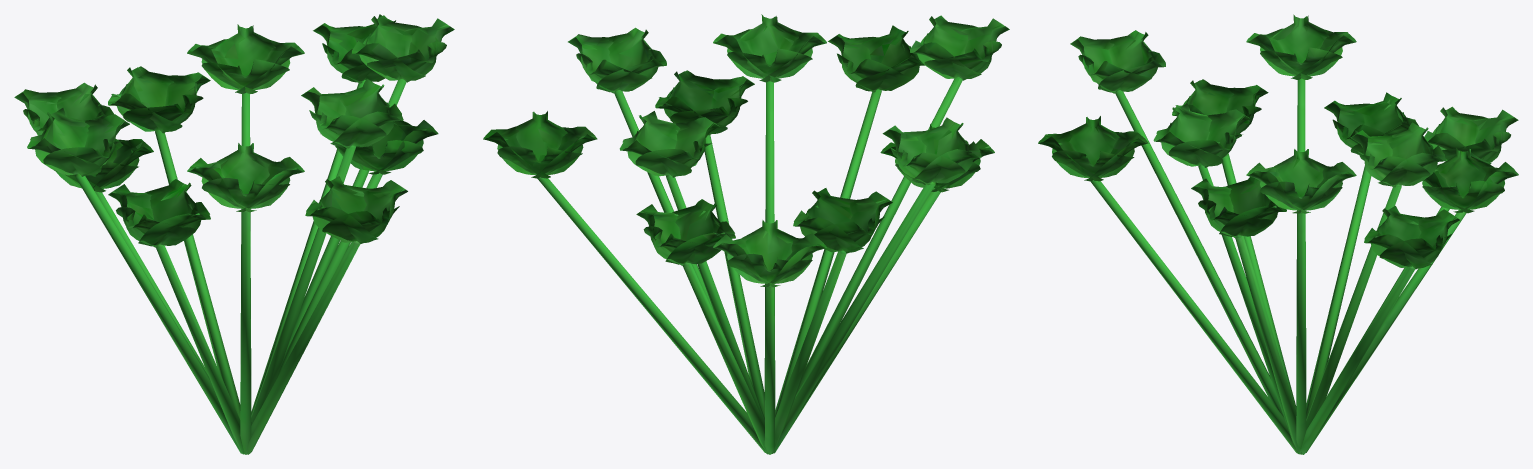
Rendered from crop_parsley.glb.
3 views of the same model, side by side, from view 1: azimuth 30°, elevation 25°; view 2: azimuth 150°, elevation 25°; view 3: azimuth 270°, elevation 25° (orthographic). The views are drawn at different scales.
Visible parts, largest first — view 1: crop_parsley, fruit; view 2: crop_parsley, fruit; view 3: crop_parsley, fruit.
Boxes of the visible parts, x1=… form: crop_parsley: x1=54, y1=14, x2=438, y2=454; fruit: x1=14, y1=15, x2=454, y2=212; crop_parsley: x1=483, y1=25, x2=994, y2=454; fruit: x1=568, y1=14, x2=1009, y2=287; crop_parsley: x1=1038, y1=78, x2=1518, y2=454; fruit: x1=1070, y1=14, x2=1518, y2=213.
Size of the model in its own units: 0.1919 by 0.1617 by 0.1937.
Materials: 1 (1 with a texture image).
